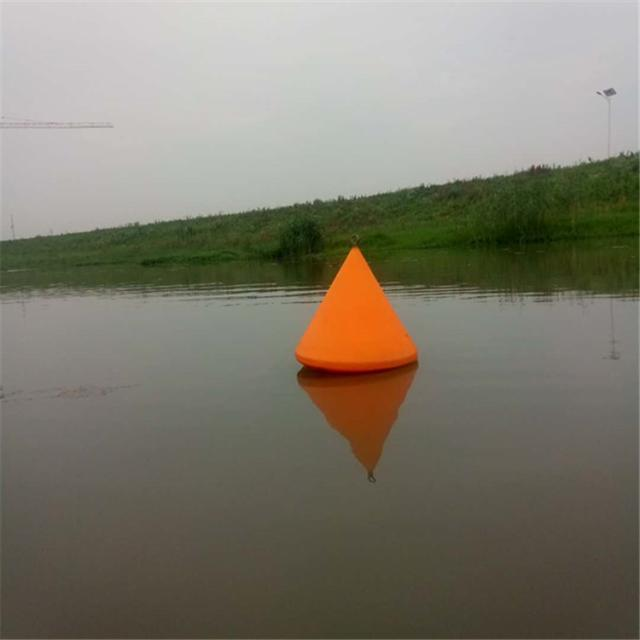buoy: (292, 234, 417, 374)
